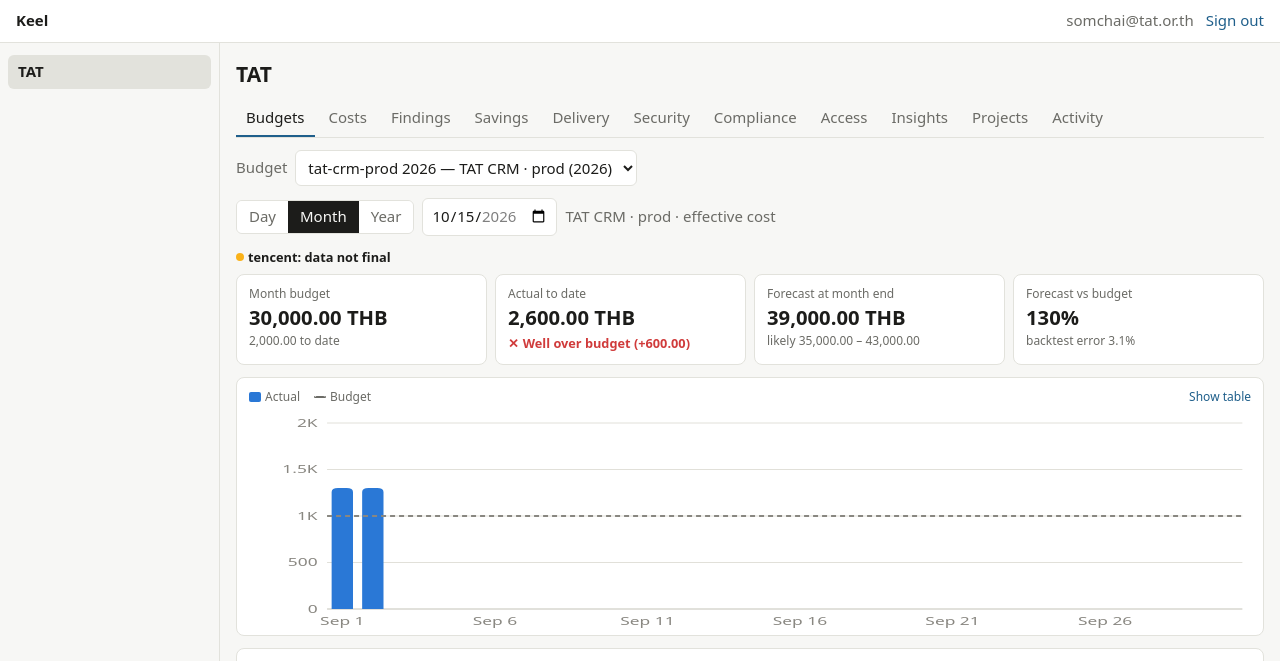
Scenario: finops screens › insights marks provisional reports and lets a finops_lead regenerate one
What coordinates should you click on to do the following:
click the tab "Insights"
I would click on:
 (920, 119)
Its box is left=882, top=101, right=958, bottom=137.
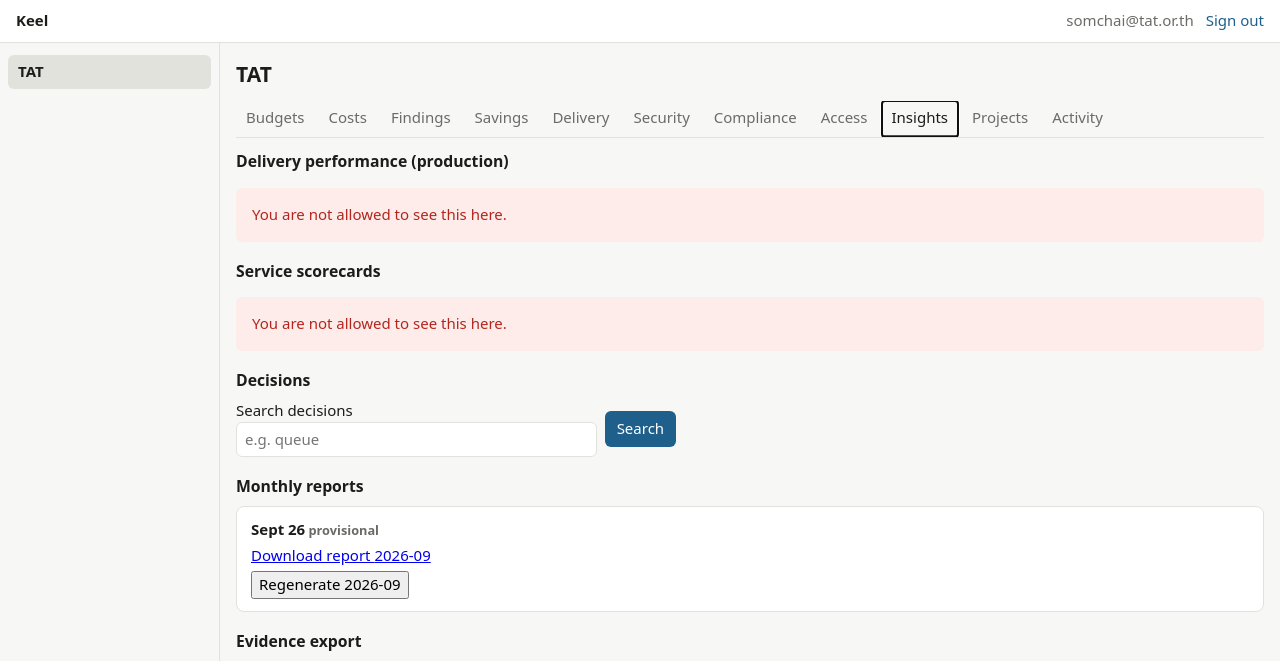
Expected: the text "provisional" is shown, left=305, top=521, right=379, bottom=539
What coordinates should you click on to do the following:
click the button "Regenerate 2026-09"
I would click on:
 (330, 585)
Its box is left=251, top=571, right=409, bottom=599.
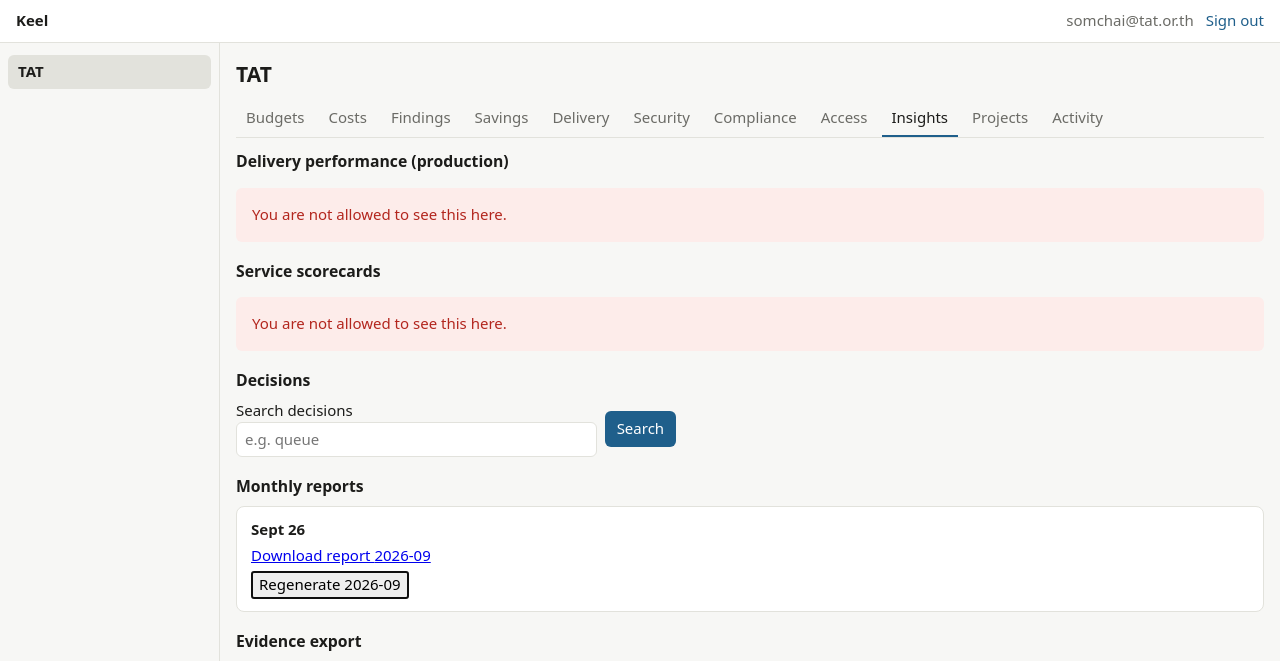
Expected: the text "provisional" is gone
